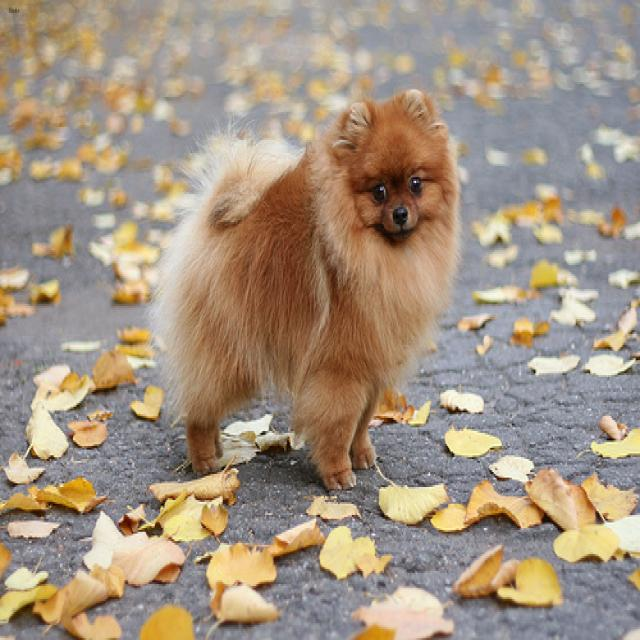dog-pomeranian: (138, 82, 471, 506)
